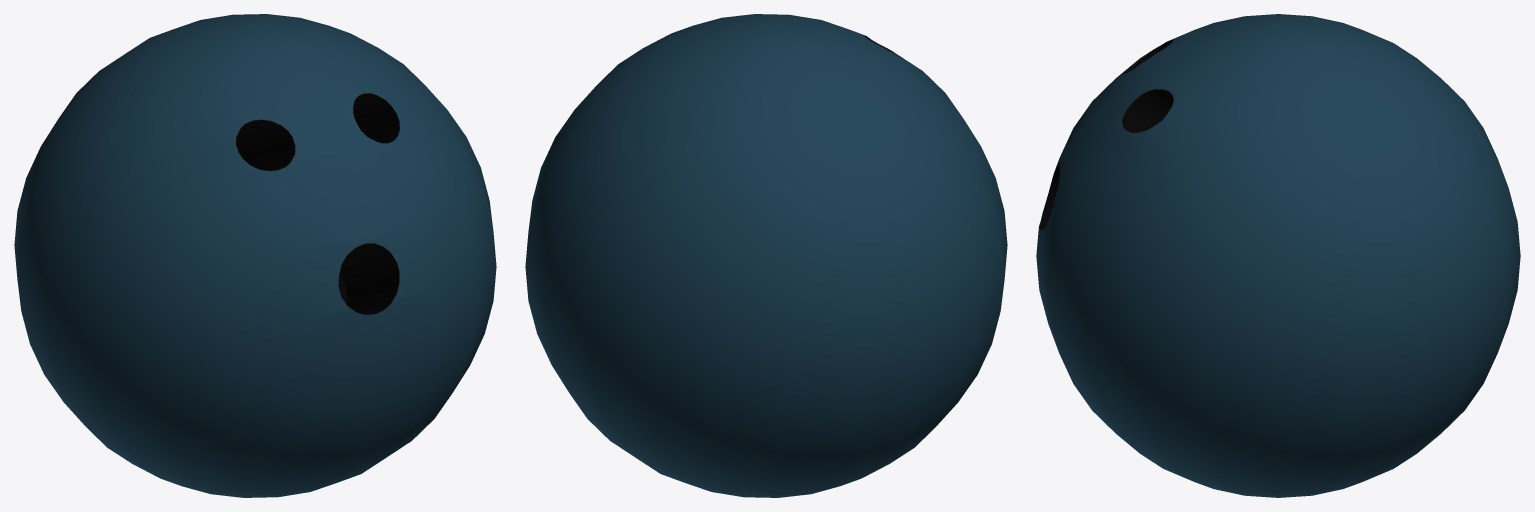
The picture shows the model from 3 angles, left to right: view 1: azimuth 30°, elevation 25°; view 2: azimuth 150°, elevation 25°; view 3: azimuth 270°, elevation 25°; orthographic projection.
Visible parts, largest first — view 1: BowlingBall_low, Hole1_low, Hole2_low, Hole3_low; view 2: BowlingBall_low; view 3: BowlingBall_low, Hole3_low.
Boxes of the visible parts, x1,y1,x2,y2 form: BowlingBall_low: (14,14,496,497); Hole1_low: (338,243,399,314); Hole2_low: (236,119,295,170); Hole3_low: (353,93,399,143); BowlingBall_low: (525,14,1007,497); BowlingBall_low: (1036,14,1520,497); Hole3_low: (1121,89,1173,132).
Size of the model in its own units: 2 by 2 by 2.
1 material, 1 textured.
